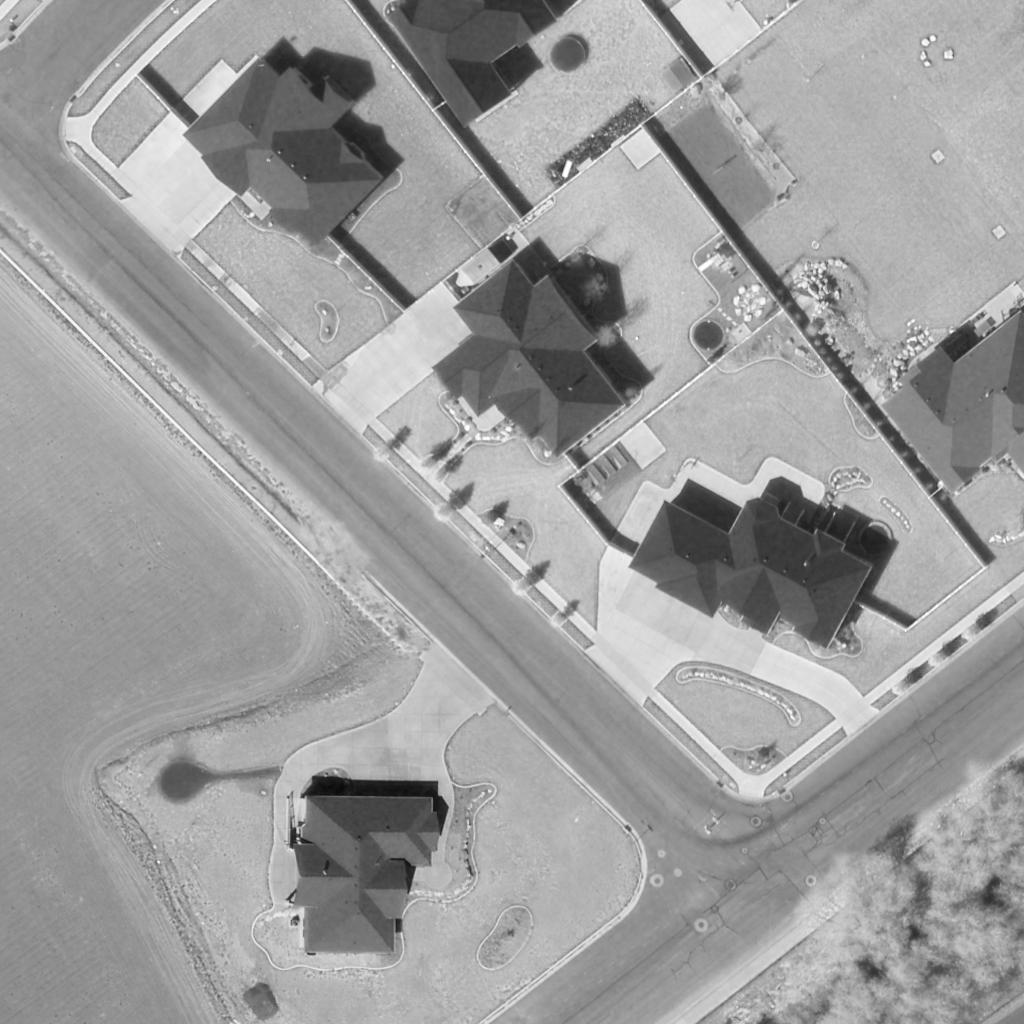vehicle: (451, 250, 499, 292)
